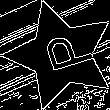P_W: (29, 30, 92, 80)
